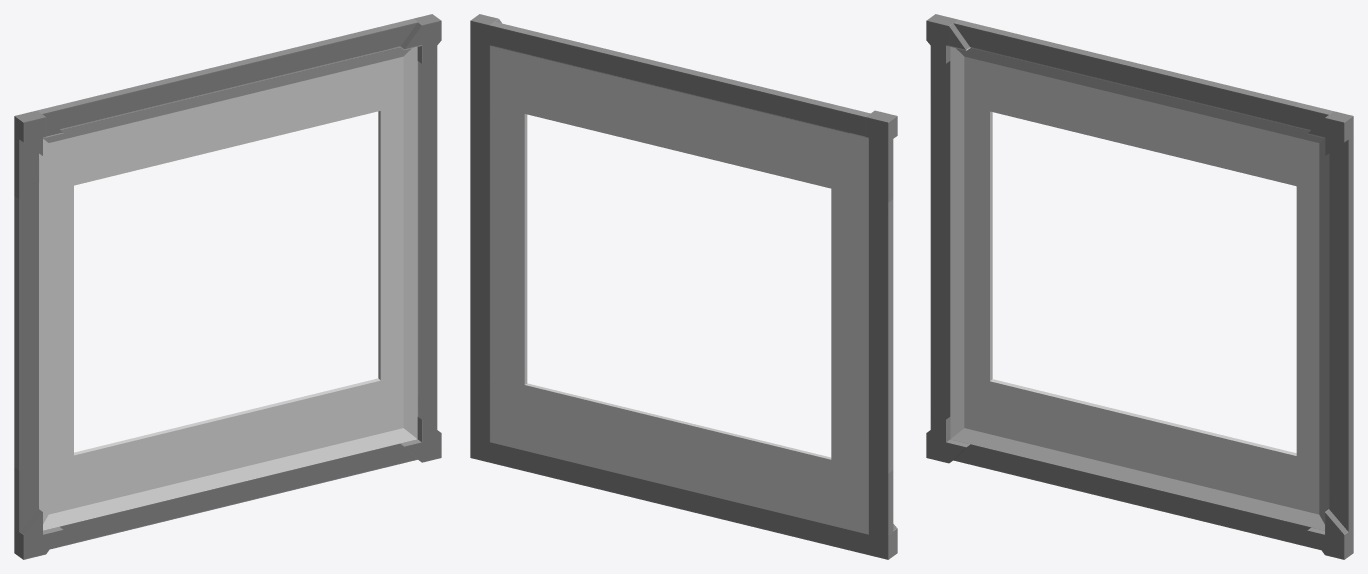
File: WallWindow_02.fbx
The picture shows the model from 3 angles, left to right: view 1: azimuth 30°, elevation 25°; view 2: azimuth 150°, elevation 25°; view 3: azimuth 330°, elevation 25°; orthographic projection.
Parts seen in each view (by area): view 1: Window_01; view 2: Window_01; view 3: Window_01.
Part boxes in pixels (x1,y1,x2,y2): Window_01: [14, 14, 441, 559]; Window_01: [470, 14, 897, 559]; Window_01: [926, 14, 1353, 559].
Bounding box in the file's own units: 10 × 10 × 0.3753.
Materials: 1 (1 with a texture image).
